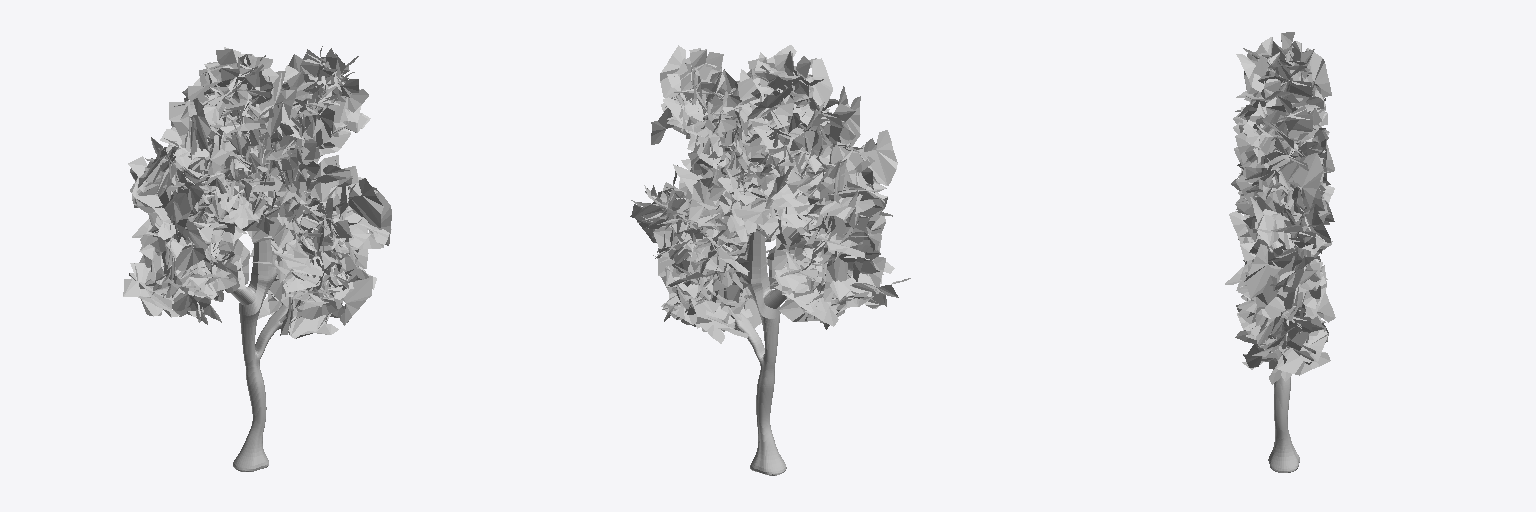
File: tree.obj
3 views of the same model, side by side, from view 1: azimuth 30°, elevation 25°; view 2: azimuth 150°, elevation 25°; view 3: azimuth 270°, elevation 25° (orthographic).
Visible parts, largest first — view 1: Cube_Cube.001, Tree_Branch.126, Tree_Branch.027, Tree_Branch.189, Tree_Branch.022, Tree_Branch.260, Tree_Branch.021, Tree_Branch.162, Tree_Branch.093, Tree_Branch.278, Tree_Branch.039, Tree_Branch.089 (+6 smaller); view 2: Cube_Cube.001, Tree_Branch.131, Tree_Branch.110, Tree_Branch.123, Tree_Branch.038, Tree_Branch.156, Tree_Branch.124, Tree_Branch.153, Tree_Branch.048, Tree_Branch.255, Tree_Branch.198, Tree_Branch.285 (+6 smaller); view 3: Cube_Cube.001, Tree_Branch.207, Tree_Branch.189, Tree_Branch.250, Tree_Branch.200, Tree_Branch.284, Tree_Branch.183, Tree_Branch.198, Tree_Branch.188, Tree_Branch.021, Tree_Branch.240, Tree_Branch.020 (+3 smaller).
Part boxes in pixels (bbox=[...]): Cube_Cube.001: bbox=[157, 185, 352, 471]; Tree_Branch.126: bbox=[169, 86, 224, 170]; Tree_Branch.027: bbox=[128, 156, 178, 239]; Tree_Branch.189: bbox=[333, 178, 383, 227]; Tree_Branch.022: bbox=[258, 297, 338, 338]; Tree_Branch.260: bbox=[123, 263, 200, 316]; Tree_Branch.021: bbox=[340, 273, 372, 325]; Tree_Branch.162: bbox=[288, 54, 368, 122]; Tree_Branch.093: bbox=[199, 49, 266, 123]; Tree_Branch.278: bbox=[301, 155, 354, 201]; Tree_Branch.039: bbox=[130, 158, 191, 242]; Tree_Branch.089: bbox=[247, 209, 297, 246]; Cube_Cube.001: bbox=[702, 94, 786, 475]; Tree_Branch.131: bbox=[813, 130, 897, 206]; Tree_Branch.110: bbox=[749, 58, 832, 128]; Tree_Branch.123: bbox=[790, 96, 860, 167]; Tree_Branch.038: bbox=[844, 167, 885, 251]; Tree_Branch.156: bbox=[680, 49, 721, 100]; Tree_Branch.124: bbox=[794, 103, 855, 166]; Tree_Branch.153: bbox=[660, 45, 687, 104]; Tree_Branch.048: bbox=[817, 262, 894, 300]; Tree_Branch.255: bbox=[824, 252, 883, 301]; Tree_Branch.198: bbox=[689, 169, 717, 220]; Tree_Branch.285: bbox=[751, 72, 838, 109]; Cube_Cube.001: bbox=[1268, 231, 1299, 472]; Tree_Branch.207: bbox=[1263, 146, 1323, 207]; Tree_Branch.189: bbox=[1245, 244, 1316, 320]; Tree_Branch.250: bbox=[1249, 312, 1330, 375]; Tree_Branch.200: bbox=[1250, 197, 1305, 248]; Tree_Branch.284: bbox=[1244, 48, 1331, 97]; Tree_Branch.183: bbox=[1237, 262, 1321, 318]; Tree_Branch.198: bbox=[1243, 197, 1330, 239]; Tree_Branch.188: bbox=[1256, 250, 1312, 325]; Tree_Branch.021: bbox=[1243, 316, 1324, 367]; Tree_Branch.240: bbox=[1258, 60, 1312, 101]; Tree_Branch.020: bbox=[1269, 316, 1313, 369].
Bounding box in the file's own units: 3.54 × 5.44 × 1.3.